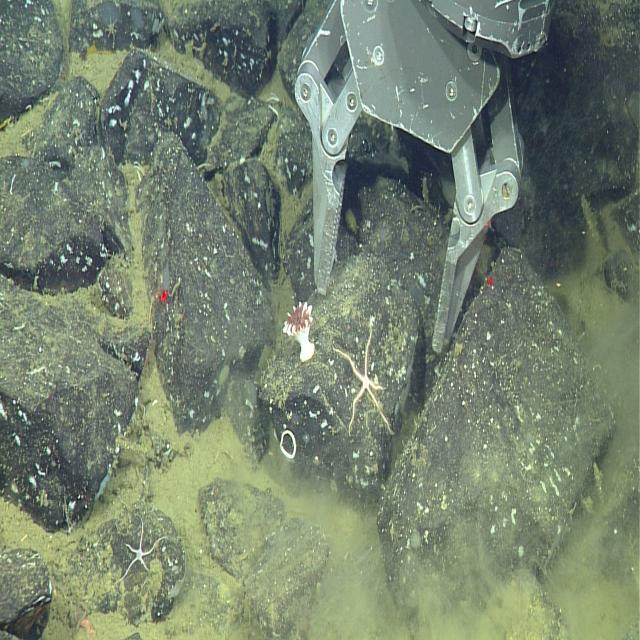Brittle Star: (330, 323, 396, 440), (119, 510, 165, 586)
Not Brittle Star: (280, 296, 316, 362)
